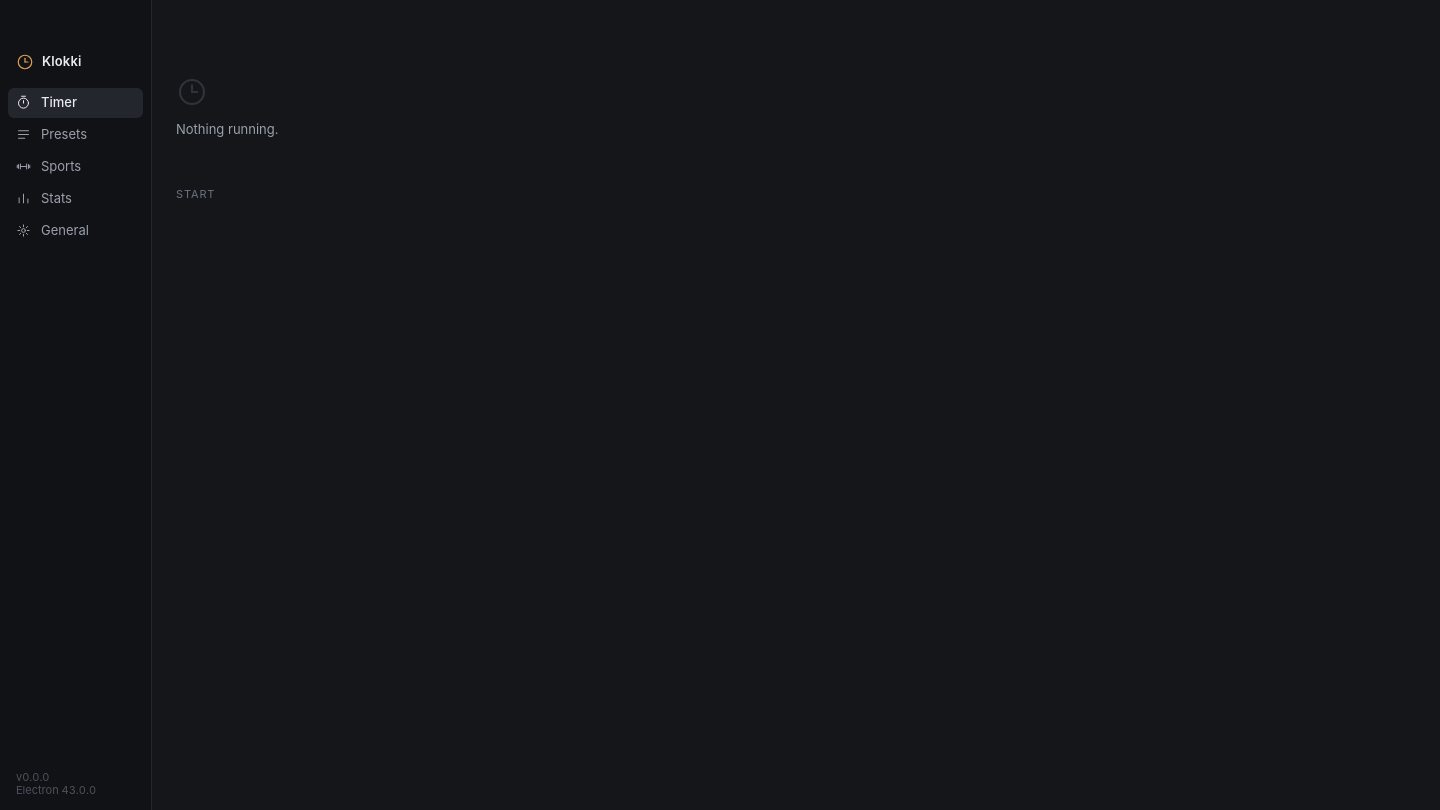
Scenario: shows one pane at a time
Expected: the text "Nothing running." is shown, [176,120,278,140]
Click the button "Presets" at (76, 134), box [8,120,143,150]
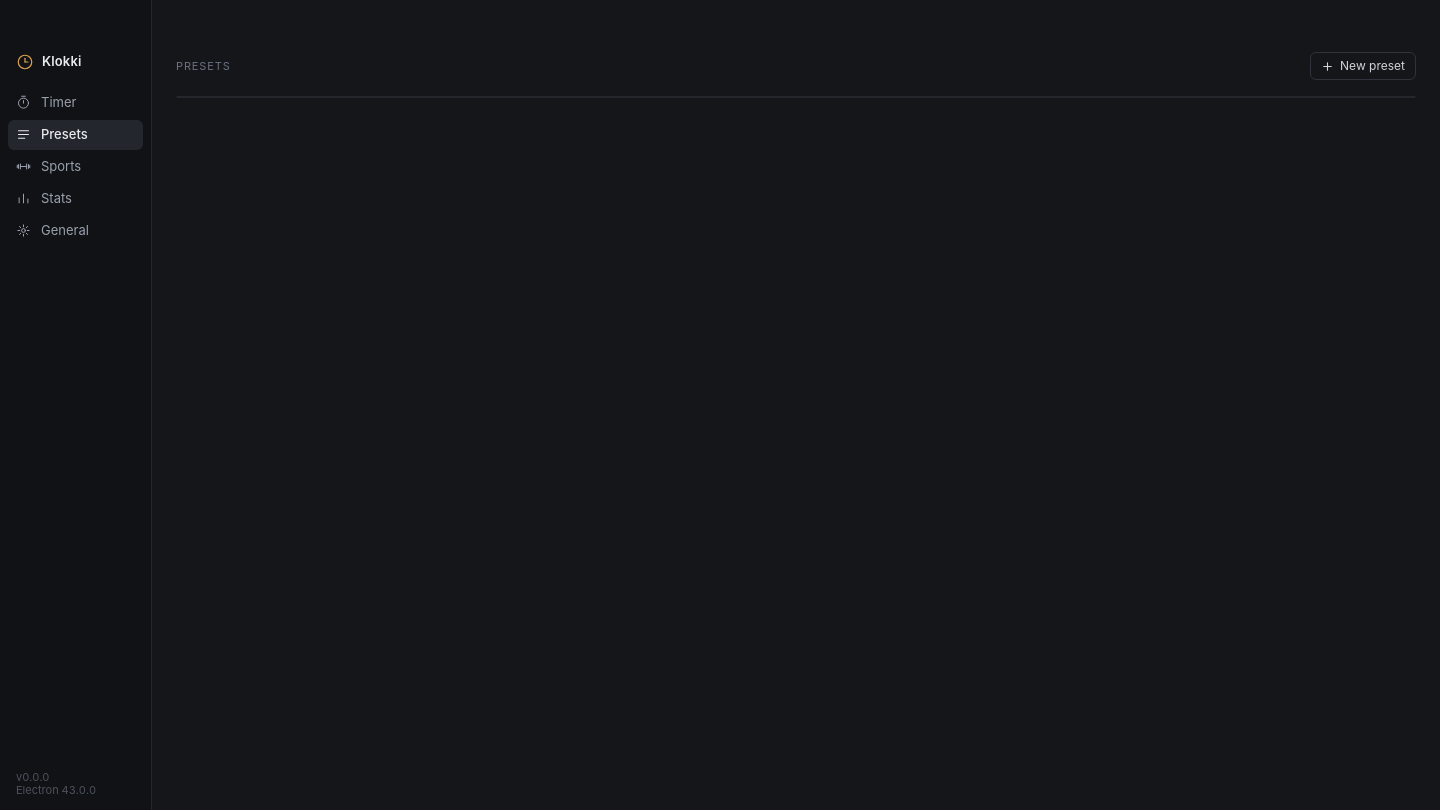
Now the button "New preset" is shown, box [1310,52,1416,80]
Now the text "Nothing running." is gone
